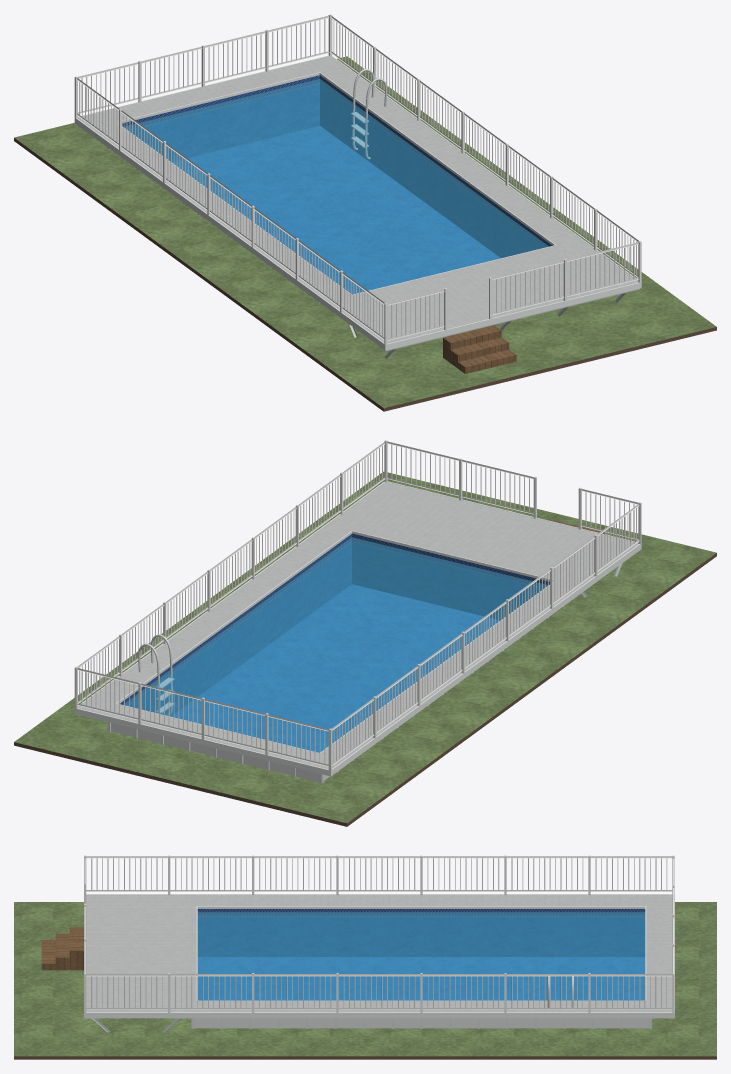
File: kayak-pool-16x32-white-end-rec-fence.4fa64f5d47.glb
3 renders of one model, top to bottom at view 1: azimuth 30°, elevation 25°; view 2: azimuth 150°, elevation 25°; view 3: azimuth 270°, elevation 25°, orthographic. The views are drawn at different scales.
Parts seen in each view (by area): view 1: water, ground, deck, liner_floor, fence, liner_wall, fascia, soil, steps, steel, stud; view 2: water, ground, deck, liner_floor, fence, liner_wall, fascia, soil, wall, steel; view 3: water, ground, deck, liner_wall, liner_floor, fence, fascia, wall, soil, steps, upright.
Part boxes in pixels (x1=…): water: x1=124, y1=79, x2=548, y2=294; ground: x1=14, y1=56, x2=716, y2=407; deck: x1=77, y1=56, x2=638, y2=343; liner_floor: x1=172, y1=126, x2=500, y2=294; fence: x1=74, y1=14, x2=641, y2=344; liner_wall: x1=122, y1=75, x2=552, y2=258; fascia: x1=74, y1=55, x2=641, y2=350; soil: x1=14, y1=138, x2=716, y2=411; steps: x1=443, y1=325, x2=516, y2=373; steel: x1=351, y1=68, x2=387, y2=159; stud: x1=329, y1=288, x2=639, y2=358; water: x1=123, y1=537, x2=547, y2=752; ground: x1=14, y1=471, x2=716, y2=823; deck: x1=78, y1=482, x2=638, y2=769; liner_floor: x1=171, y1=584, x2=500, y2=752; fence: x1=74, y1=440, x2=641, y2=770; liner_wall: x1=120, y1=533, x2=549, y2=716; fascia: x1=74, y1=481, x2=641, y2=776; soil: x1=14, y1=553, x2=716, y2=826; wall: x1=111, y1=723, x2=329, y2=781; steel: x1=138, y1=634, x2=174, y2=715; water: x1=197, y1=912, x2=645, y2=1000; ground: x1=14, y1=902, x2=716, y2=1056; deck: x1=86, y1=894, x2=672, y2=1012; liner_wall: x1=197, y1=909, x2=645, y2=956; liner_floor: x1=197, y1=957, x2=645, y2=1000; fence: x1=84, y1=855, x2=674, y2=1012; fascia: x1=84, y1=894, x2=674, y2=1018; wall: x1=194, y1=1018, x2=648, y2=1028; soil: x1=14, y1=1056, x2=716, y2=1059; steps: x1=41, y1=927, x2=83, y2=970; upright: x1=191, y1=1018, x2=651, y2=1028.
Bounding box in the file's own units: 7.92 × 2.15 × 15.23.
Materials: 13 (5 with a texture image).
